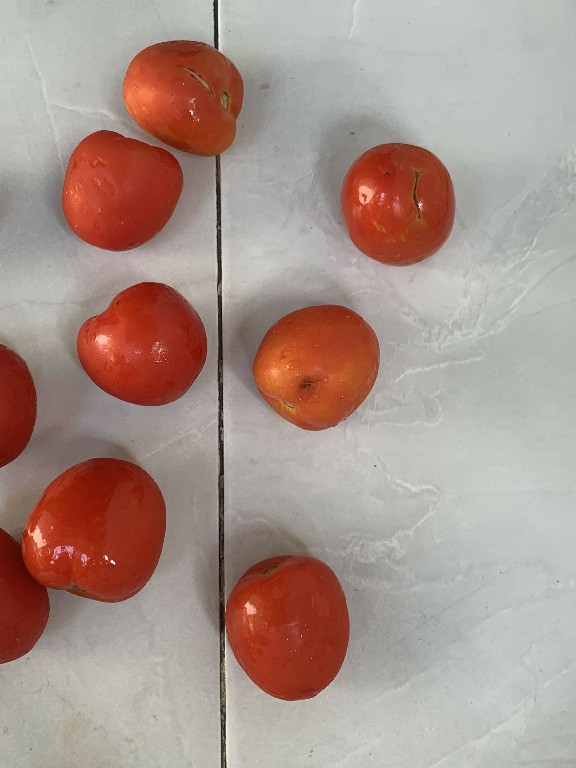NG: (244, 301, 388, 439), (117, 31, 252, 161), (330, 134, 456, 273)
OK: (22, 456, 168, 602), (218, 554, 353, 701), (72, 276, 212, 415), (56, 127, 182, 252)
